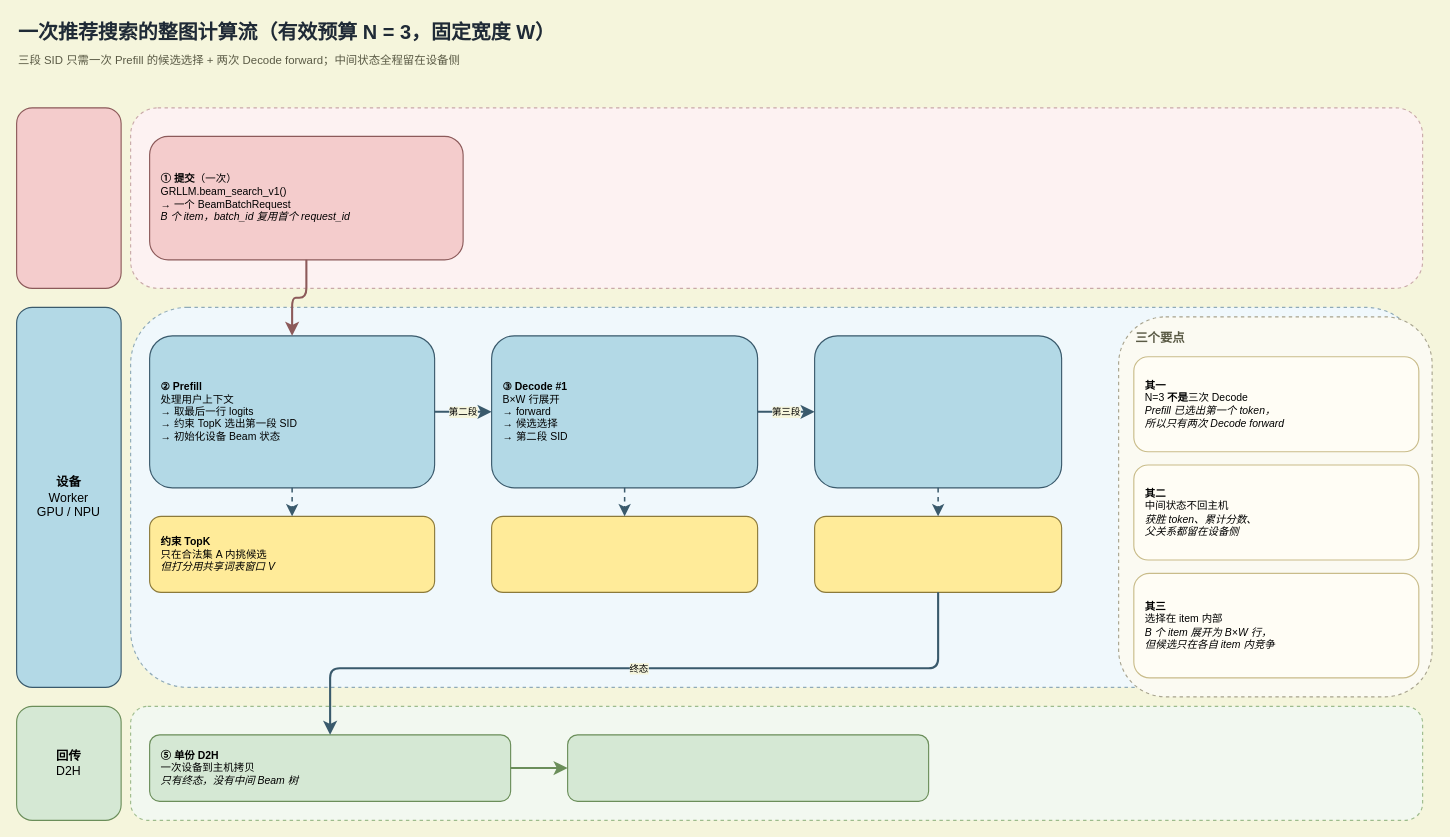
Some shapes in this 1450 by 837 pixel diagram are drawn without their labels. Each missing label, with the centre of its shape:
④ Decode #2 同上 → 候选选择 → 第三段 SID: [938,411]
⑥ 构造输出 BeamSearchOutput lazy：文本在访问时才 decode: [748,767]
前端 Frontend: [68,197]
父索引重排后缀 KV gather → 暂存 → scatter 避免共享父节点被原位覆盖: [624,553]
设备端排序打包 按累计分数排序 → 拼成最终 payload: [938,553]
